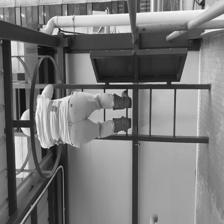Feet: (101, 84, 140, 112), (102, 112, 146, 133)
Hand: (39, 80, 66, 109)
Ladder: (22, 75, 205, 144)
